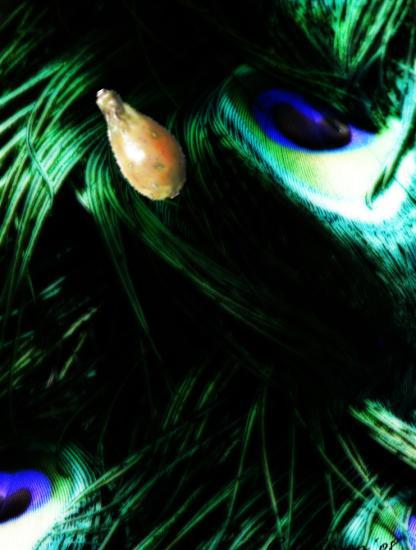Cactus: (75, 77, 205, 207)
